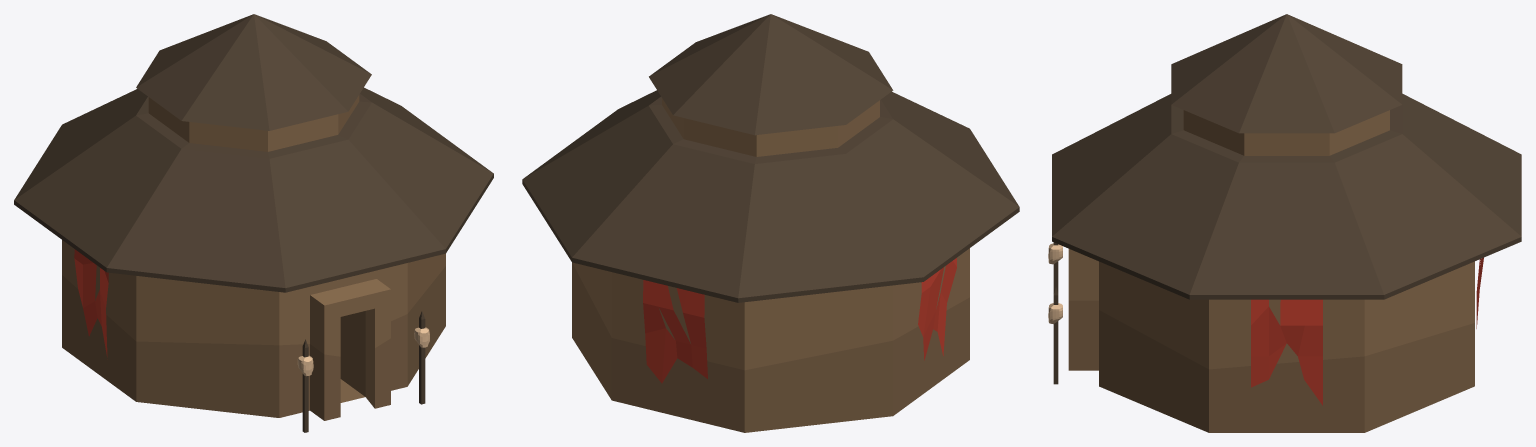
Rendered from FBX - TownHall(Aswang).fbx.
3 renders of one model, left to right at view 1: azimuth 30°, elevation 25°; view 2: azimuth 150°, elevation 25°; view 3: azimuth 270°, elevation 25°, orthographic. The views are drawn at different scales.
Parts seen in each view (by area): view 1: Hut, Plane.001, Efigy, Efigy.001; view 2: Hut, Plane.002, Plane.001; view 3: Hut, Plane, Efigy.001.
Boxes of the visible parts, <box> form: Hut: <box>14,14,493,420</box>; Plane.001: <box>74,249,108,359</box>; Efigy: <box>297,339,313,432</box>; Efigy.001: <box>414,311,429,404</box>; Hut: <box>522,14,1019,432</box>; Plane.002: <box>643,280,707,383</box>; Plane.001: <box>918,258,956,360</box>; Hut: <box>1052,14,1521,432</box>; Plane: <box>1251,299,1322,405</box>; Efigy.001: <box>1048,287,1062,384</box>.
Size of the model in its own units: 980 by 781 by 988.
